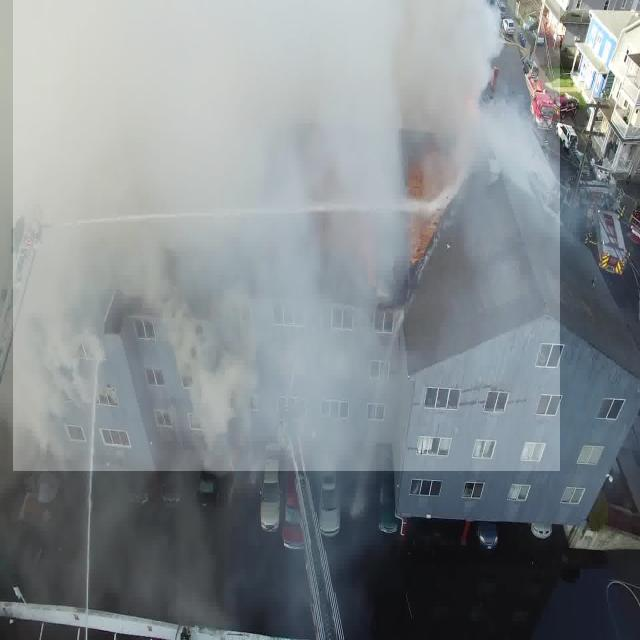Fire: (390, 135, 450, 262)
Smoke: (13, 0, 560, 471)
